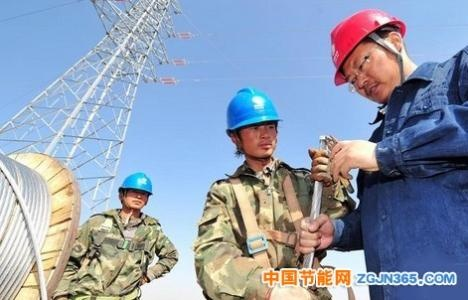blue: (221, 83, 284, 159), (118, 172, 151, 210)
red: (328, 8, 406, 105)
